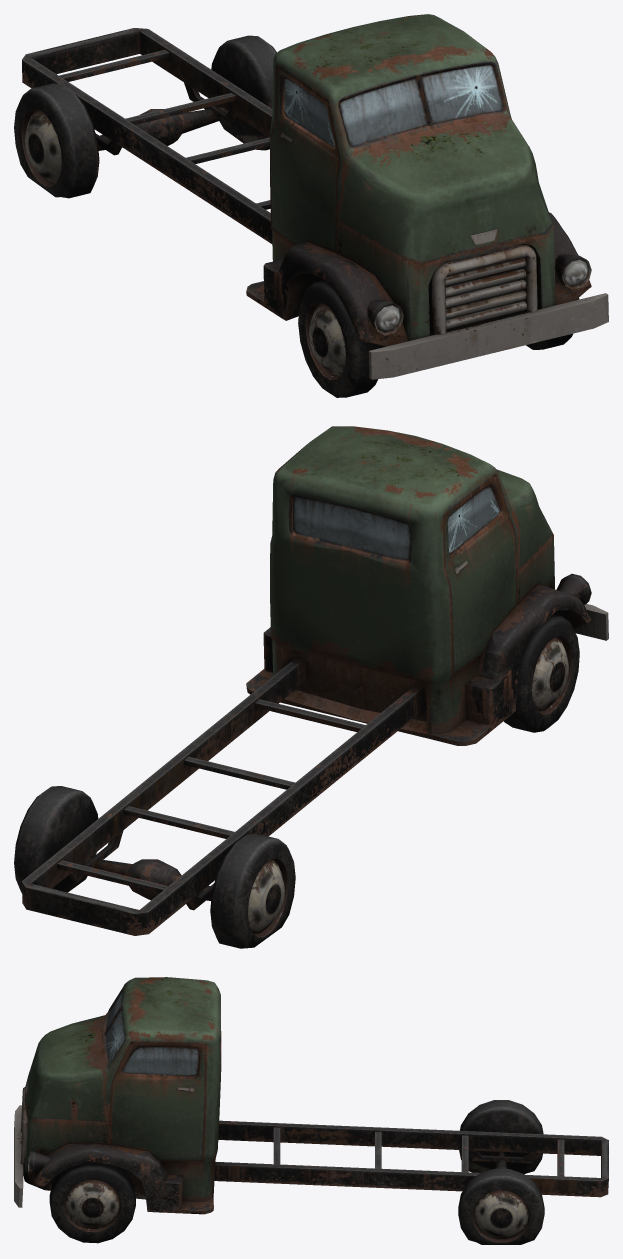
Rendered from truck1.obj.
3 views of the same model, one above another, from view 1: azimuth 30°, elevation 25°; view 2: azimuth 150°, elevation 25°; view 3: azimuth 270°, elevation 25° (orthographic). The views are drawn at different scales.
Visible parts, largest first — view 1: Object002_Untitled.001; view 2: Object002_Untitled.001; view 3: Object002_Untitled.001.
Part boxes in pixels (x1,y1,x2,y2): Object002_Untitled.001: (14,14,608,397); Object002_Untitled.001: (14,426,608,948); Object002_Untitled.001: (14,977,608,1244).
Bounding box in the file's own units: 3.4 × 3.93 × 10.27.
1 material, 1 textured.
